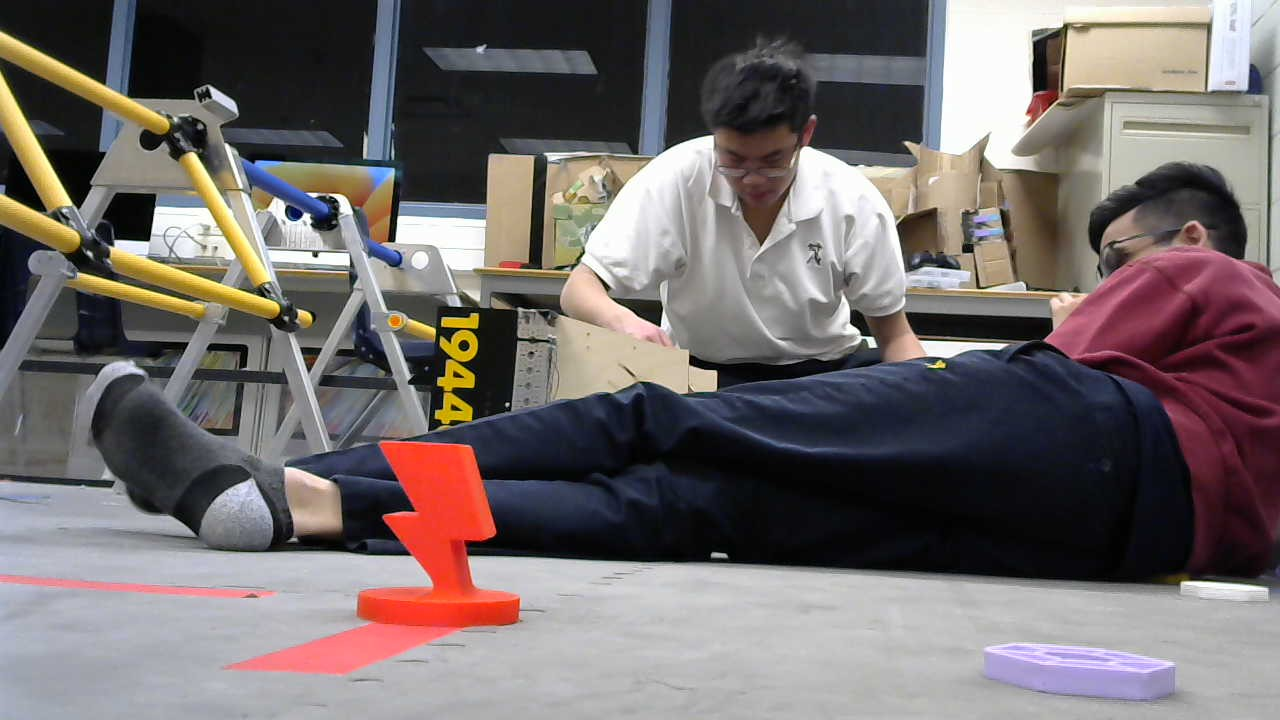redobject: (353, 441, 523, 628)
